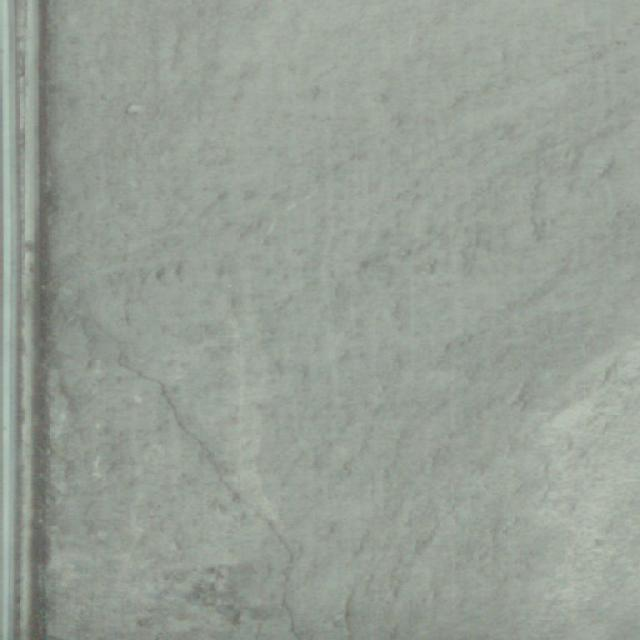Annular: (51, 282, 442, 640)
